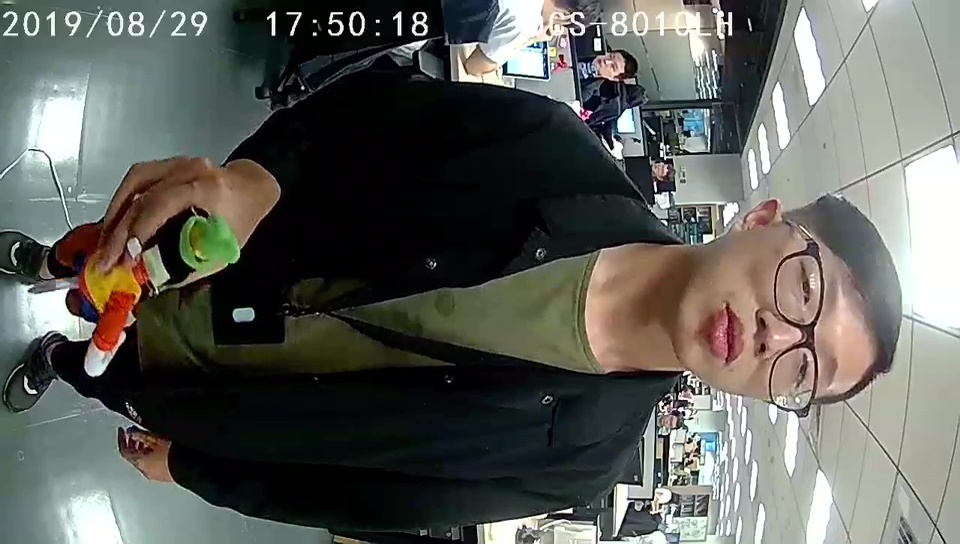goofy: (55, 212, 243, 379)
